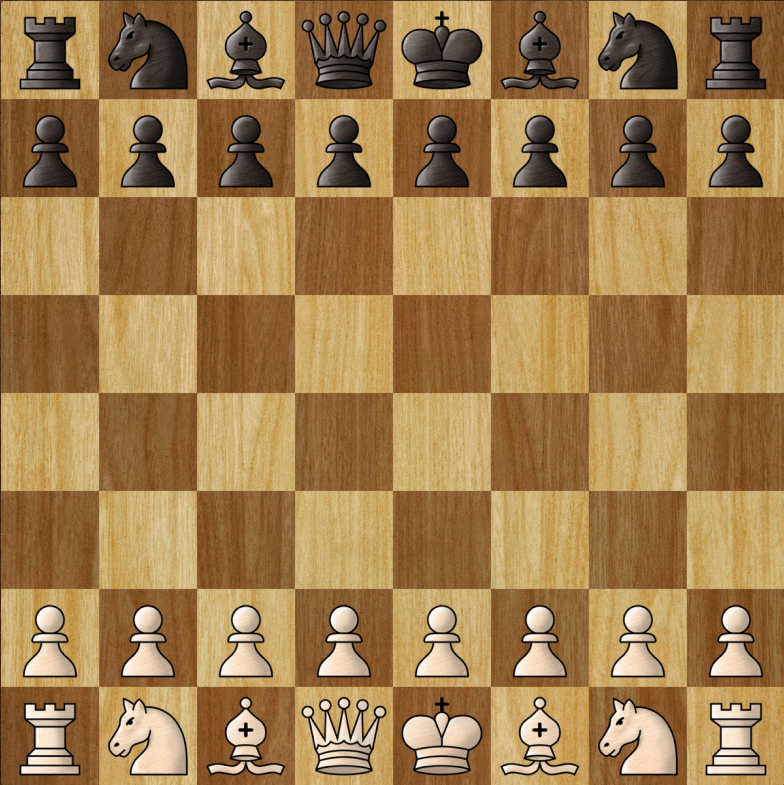white_knight: (109, 697, 188, 775), (599, 699, 677, 775)
